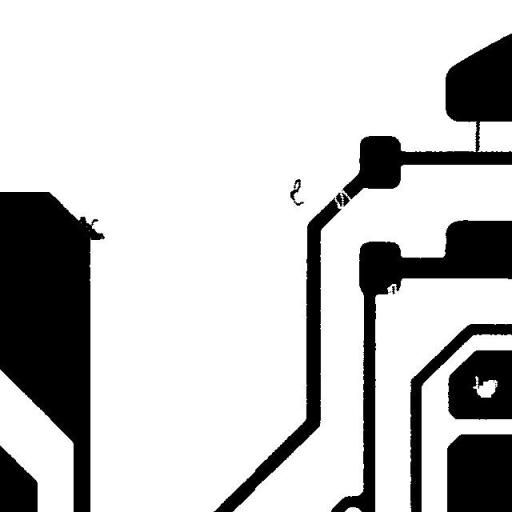copper: (282, 171, 312, 213)
mousebite: (379, 276, 407, 302)
open: (320, 181, 364, 218)
pin-hole: (465, 368, 505, 402)
short: (467, 100, 487, 163)
spur: (71, 209, 112, 247)
